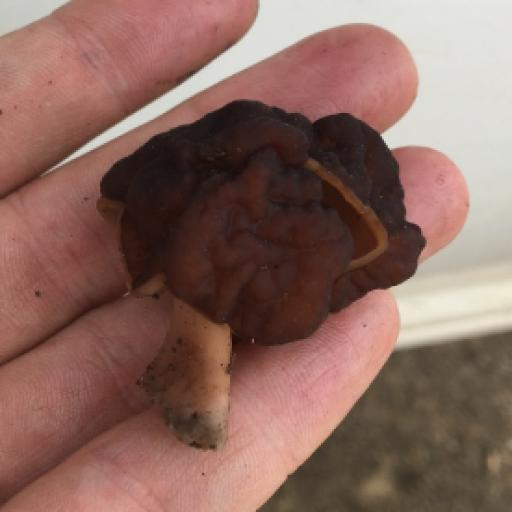mushroom: (13, 19, 464, 465)
